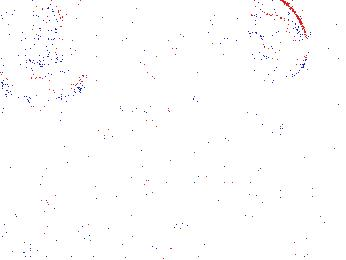moon jellyfish: (206, 1, 309, 74), (1, 35, 93, 109), (1, 1, 64, 80), (131, 48, 197, 123), (161, 13, 240, 67)
